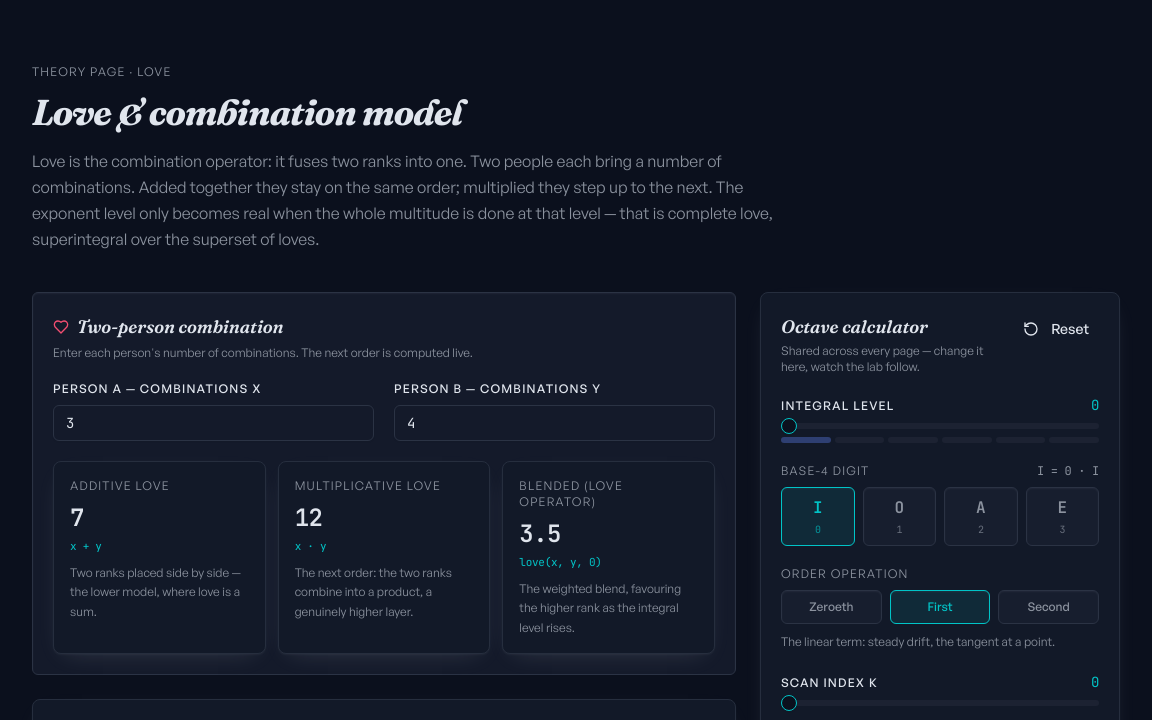
Test case: LovePage › updates the next-order result live as inputs change
This screenshot has width=1152, height=720.
Replace the text in the number field with test id "love.x_input" with "5" at (214, 423), box top-left (53, 405), bottom-right (374, 441)
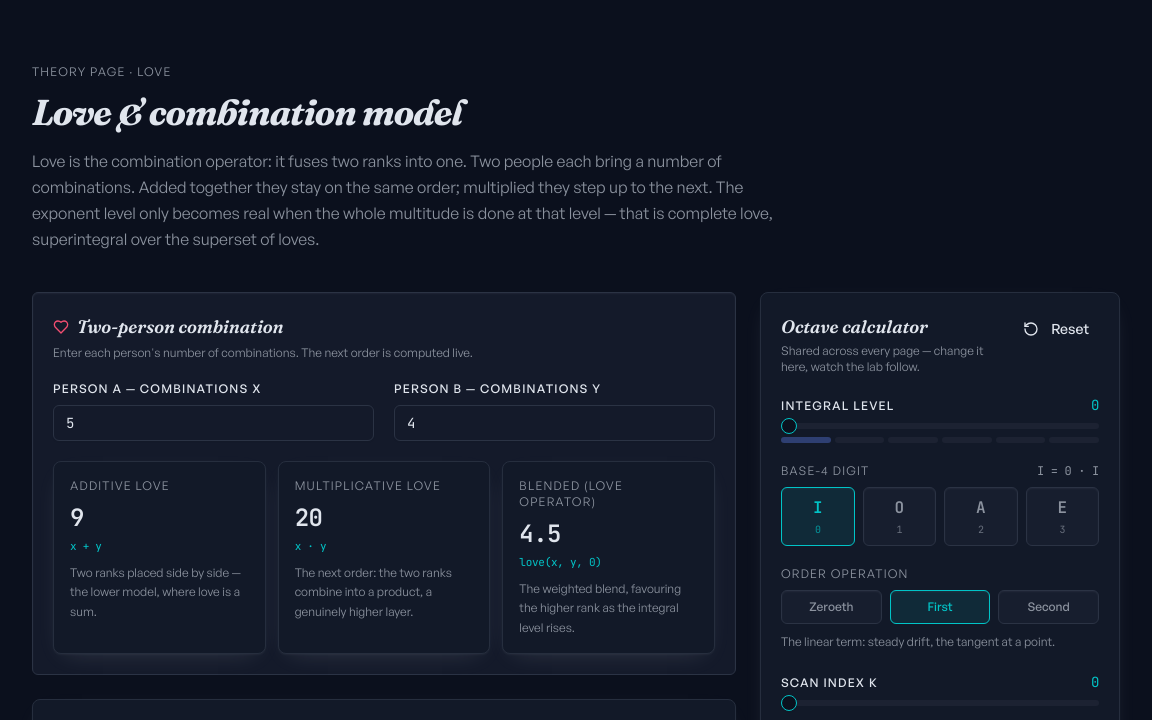
Check: the element with test id "love.result.2" shows "20", box top-left (295, 502), bottom-right (322, 533)
Check: the element with test id "love.result.1" shows "9", box top-left (70, 502), bottom-right (84, 533)
